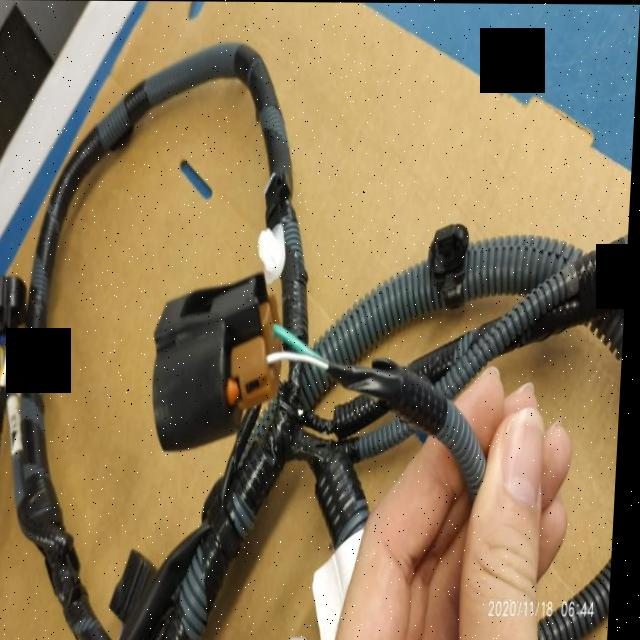cable-tie: (260, 223, 287, 284)
clip: (431, 224, 471, 307)
connector: (156, 274, 283, 450), (0, 276, 29, 343)
